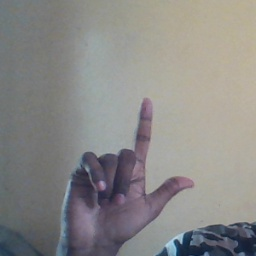L: (59, 95, 199, 243)
